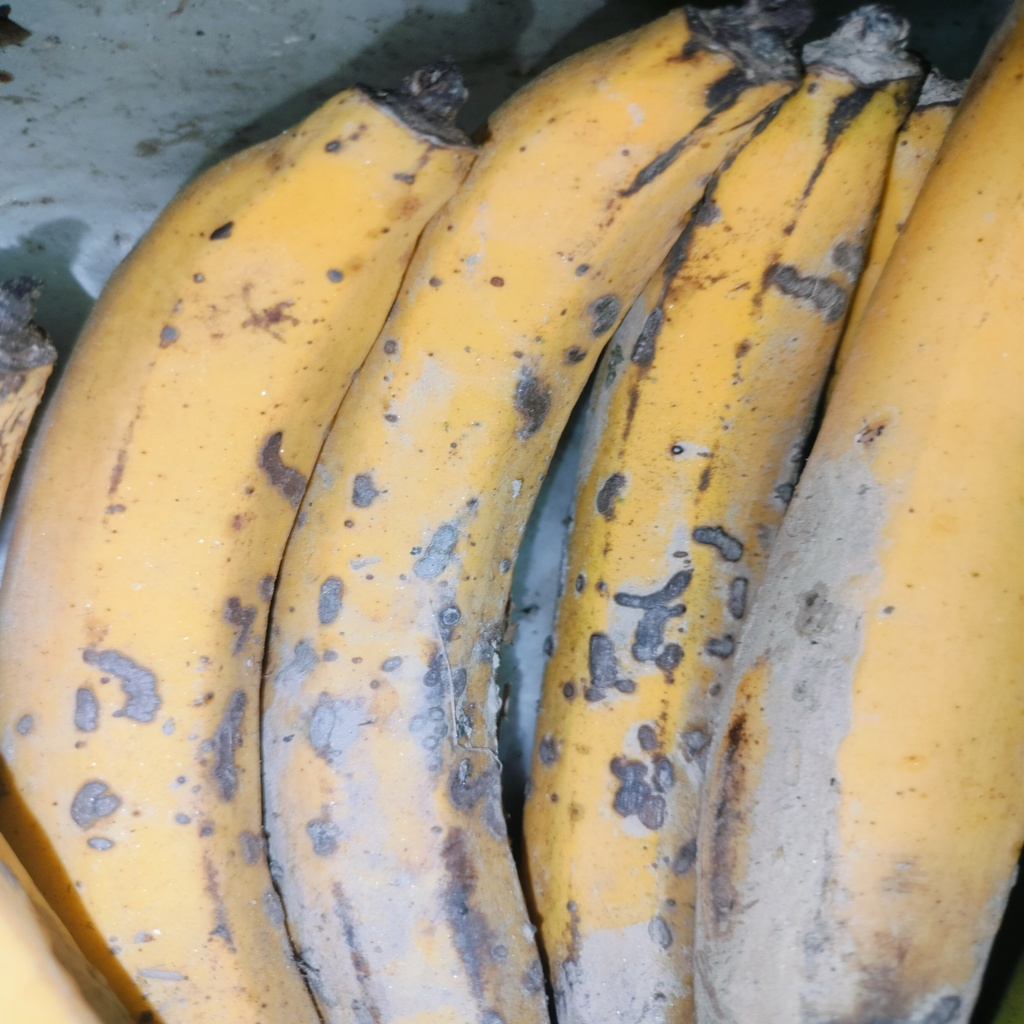unhealthy: (260, 9, 793, 1020), (5, 98, 467, 1024)
